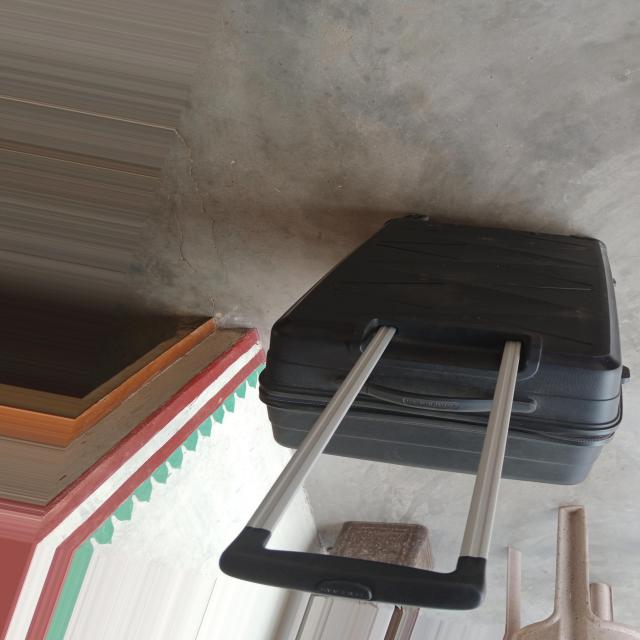Bag: (194, 209, 635, 633)
Handle: (220, 327, 527, 636)
